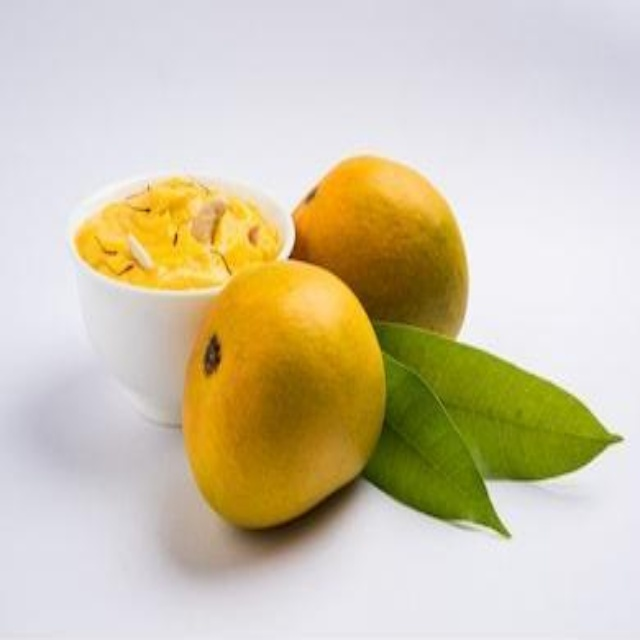mango: (180, 257, 392, 528), (294, 153, 471, 354)
